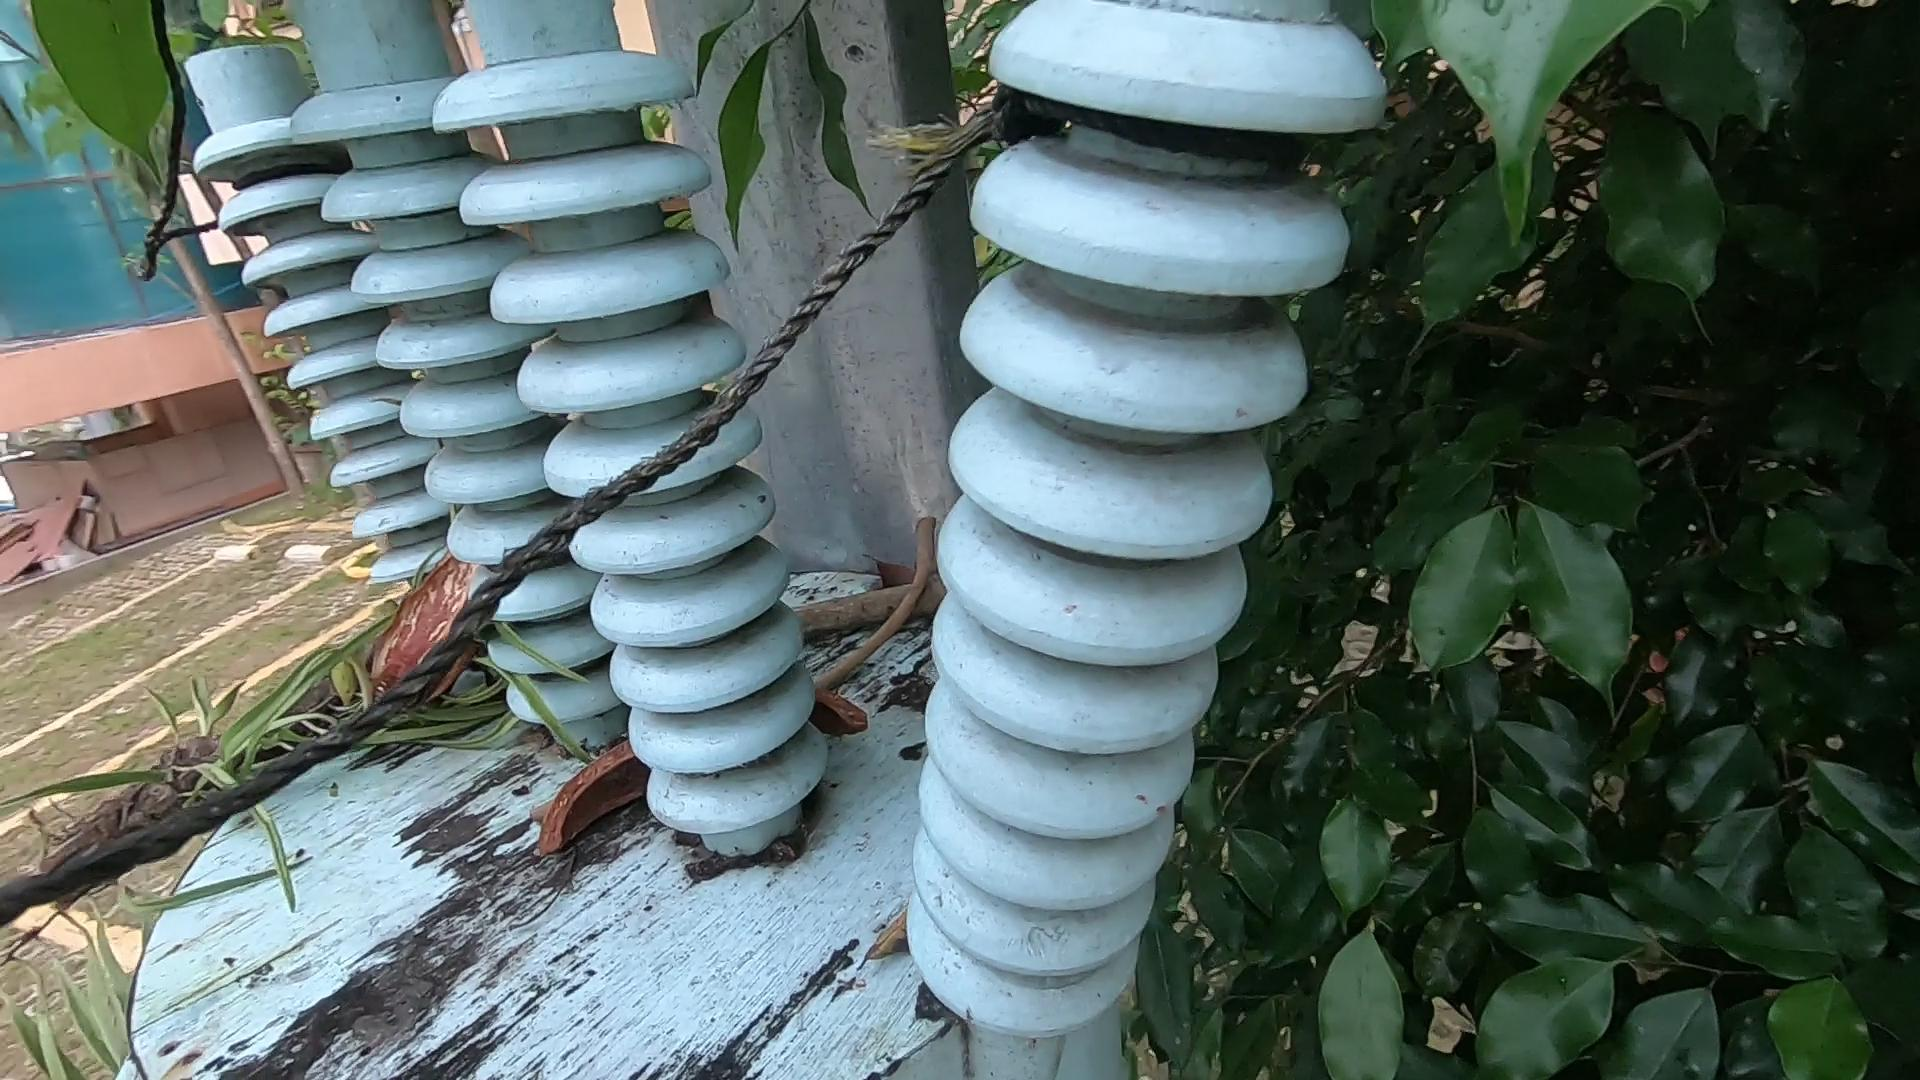branch with leaves: (87, 323, 957, 1071)
leaf: (858, 798, 982, 1009)
mahogany fruit: (404, 509, 545, 793), (556, 757, 731, 898)
tree branch: (551, 471, 943, 924)
